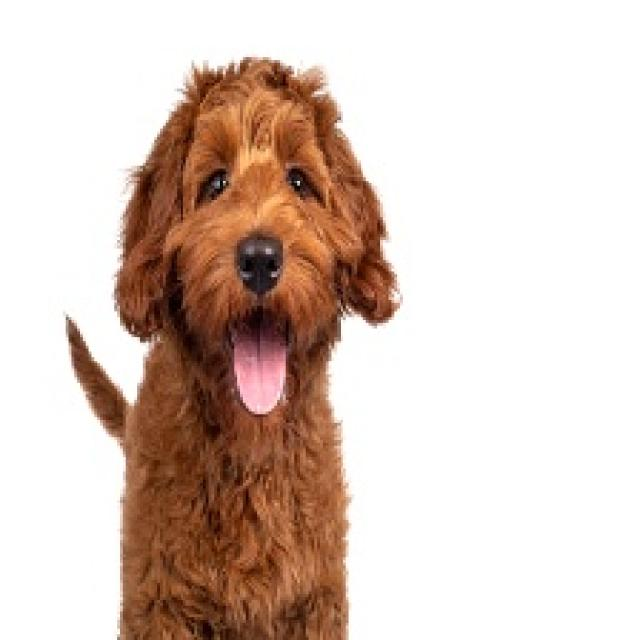animal: (95, 65, 442, 640)
